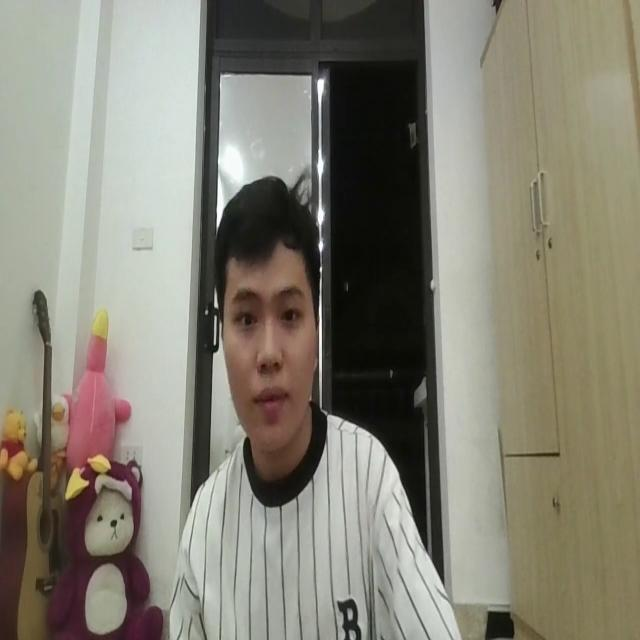student: (163, 166, 460, 640)
